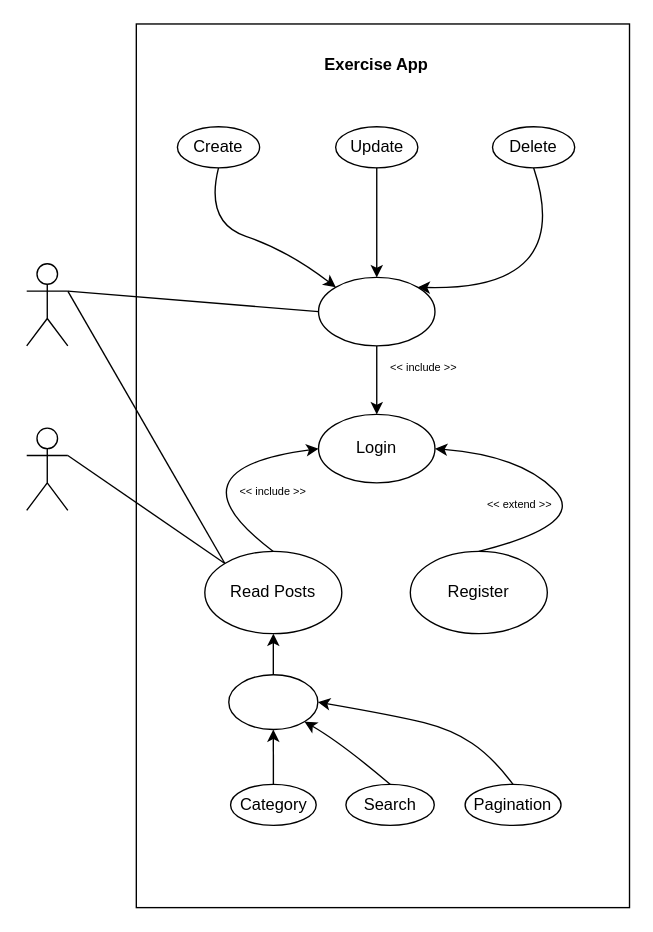
This 653x932 diagram has some shape labels left out. The box of each missing label's shape, as (x1, y1, x2, y2) in pixels:
Admin: (25, 262, 68, 346)
Management: (317, 276, 435, 346)
User: (25, 427, 68, 510)
View By: (227, 673, 318, 730)
